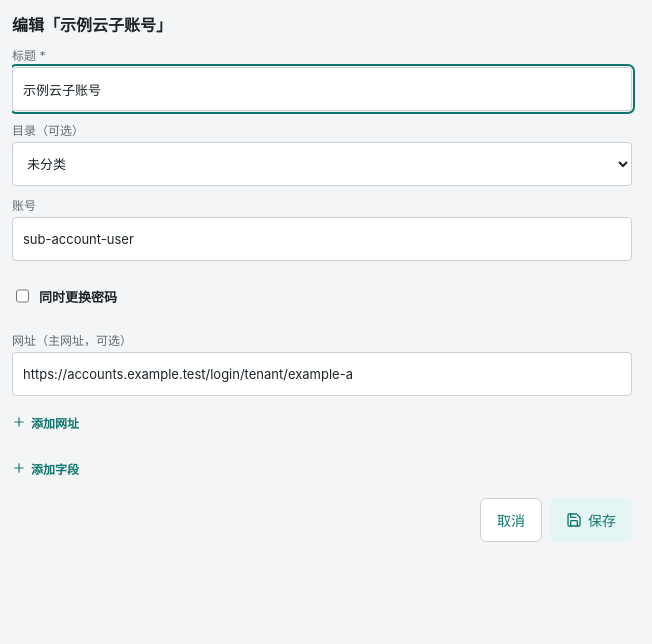
Test: ItemForm › keeps the form open with recovery guidance when the server protects a newer edit
Type "不会覆盖的新标题" into the field labelled "标题 *".
click(322, 89); type("不会覆盖的新标题")  # box x1=12 y1=67 x2=632 y2=111
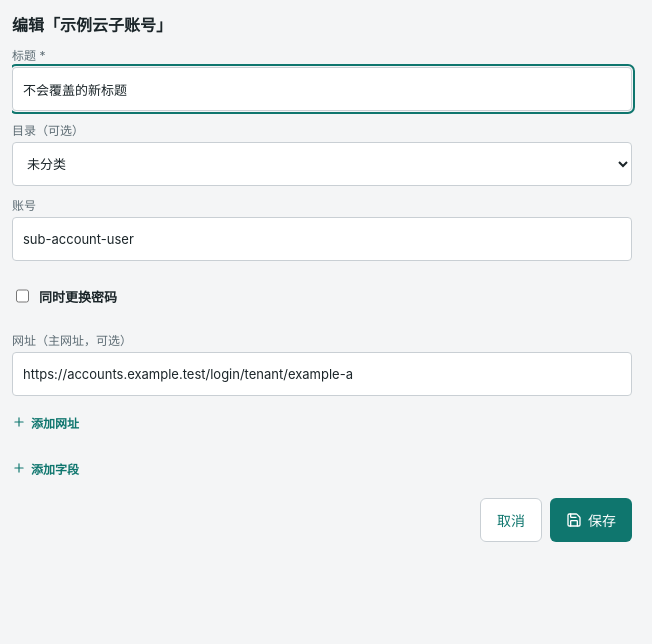
Click the button "保存".
click(591, 520)  # box x1=550 y1=498 x2=632 y2=542
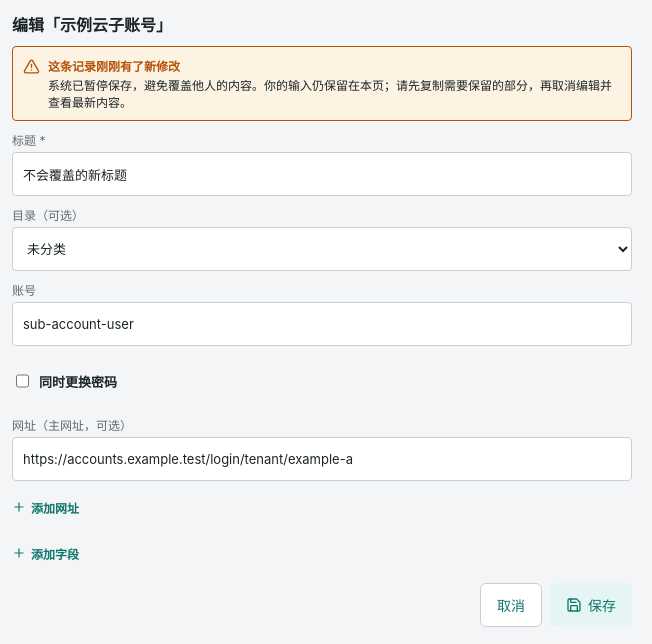
Expected: the text "系统已暂停保存，避免覆盖他人的内容。你的输入仍保留在本页；请先复制需要保留的部分，再取消编辑并查看最新内容。" is shown, x1=48 y1=76 x2=621 y2=110
